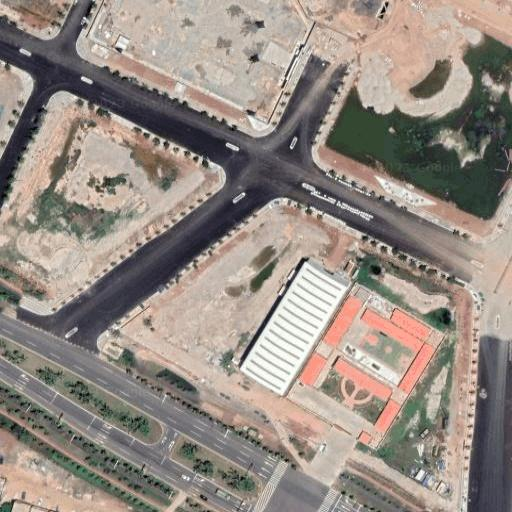building: (240, 258, 351, 392), (360, 308, 423, 354), (332, 357, 393, 402), (321, 295, 364, 349), (399, 343, 436, 394), (388, 308, 431, 342), (298, 352, 327, 387), (374, 400, 401, 433), (10, 501, 31, 512), (358, 431, 372, 444), (415, 469, 425, 481), (436, 482, 446, 493)
